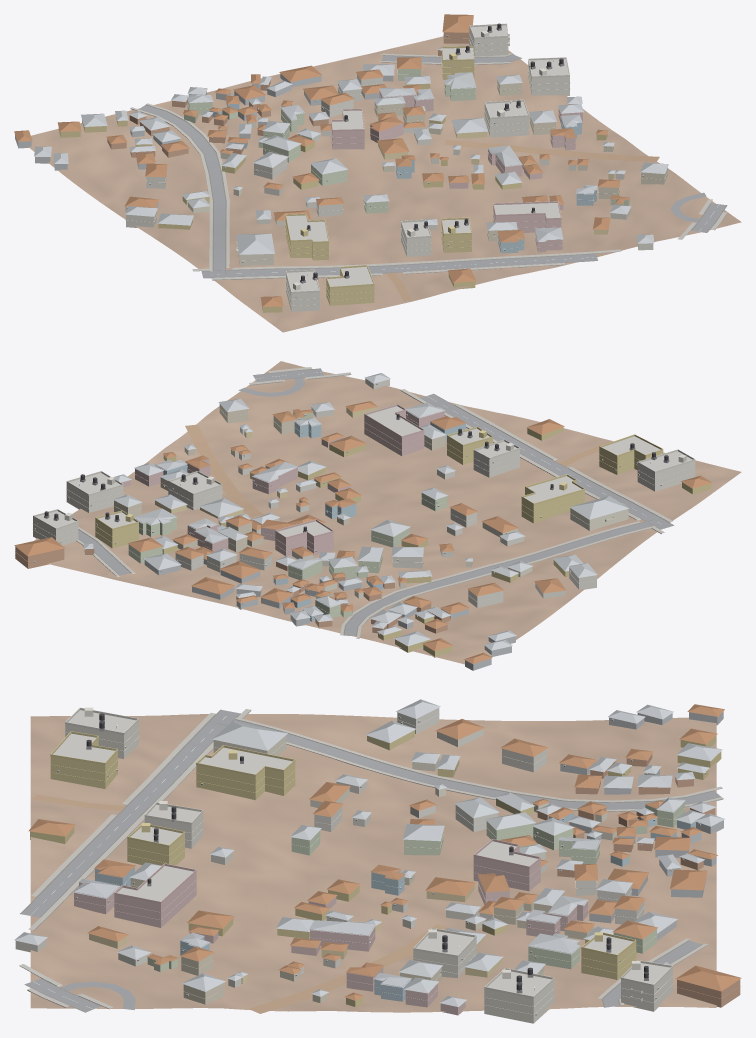
The picture shows the model from 3 angles, top to bottom: view 1: azimuth 30°, elevation 25°; view 2: azimuth 150°, elevation 25°; view 3: azimuth 270°, elevation 25°; orthographic projection. The views are drawn at different scales.
Parts seen in each view (by area): view 1: Terrain-col, Buildings-col, Roads-col, Details, Sidewalks-col; view 2: Buildings-col, Terrain-col, Roads-col, Details, Sidewalks-col; view 3: Terrain-col, Buildings-col, Roads-col, Details, Sidewalks-col.
Part boxes in pixels (x1,y1,x2,y2): Terrain-col: (28,36,741,332); Buildings-col: (14,14,668,312); Roads-col: (139,54,727,300); Details: (67,23,668,306); Sidewalks-col: (130,53,727,280); Buildings-col: (14,373,711,670); Terrain-col: (15,361,741,664); Roads-col: (78,368,674,635); Details: (15,383,695,634); Sidewalks-col: (76,367,672,638); Terrain-col: (30,714,716,1012); Buildings-col: (14,699,741,1023); Roads-col: (20,709,720,1013); Details: (50,707,740,1015); Sidewalks-col: (19,709,723,1009).
Size of the model in its own units: 273 by 17.93 by 272.
